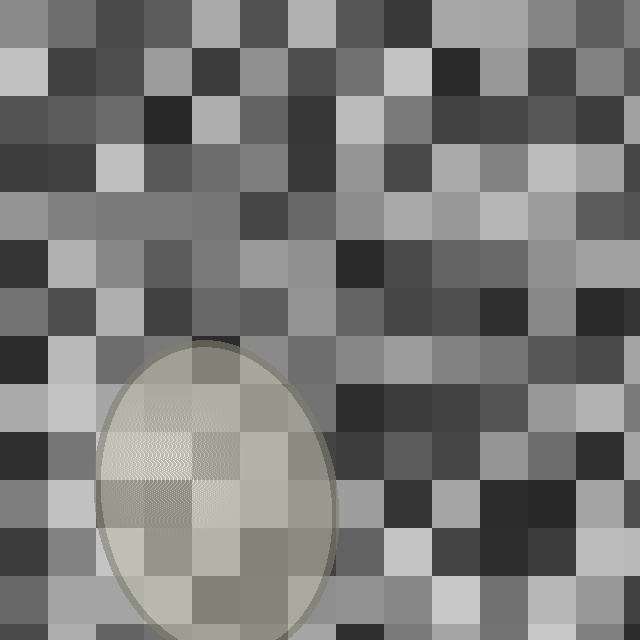lens: (97, 344, 335, 640)
